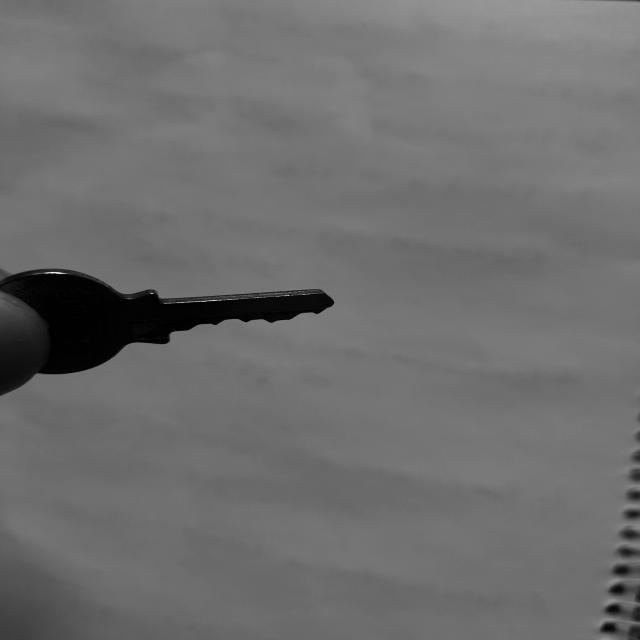KEY: (0, 269, 333, 374)
